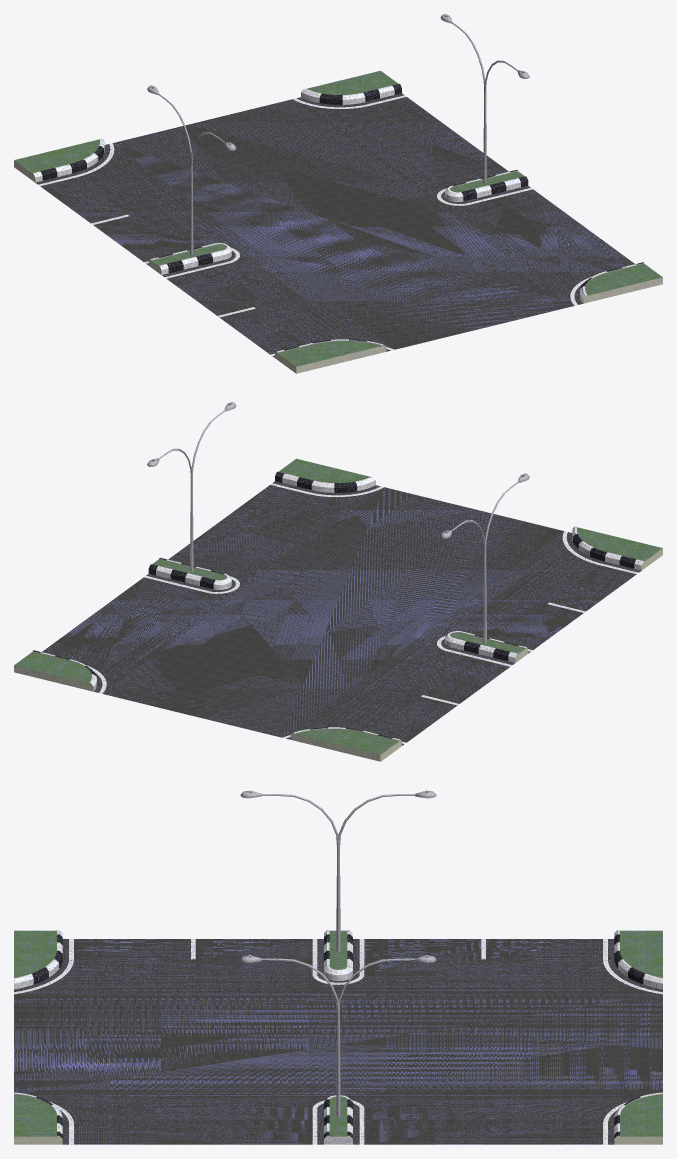
The picture shows the model from 3 angles, top to bottom: view 1: azimuth 30°, elevation 25°; view 2: azimuth 150°, elevation 25°; view 3: azimuth 270°, elevation 25°; orthographic projection. The views are drawn at different scales.
Parts seen in each view (by area): view 1: SketchUp (×7); view 2: SketchUp (×7); view 3: SketchUp (×11), Light_Street_Curved_18_ (×4).
Boxes of the visible parts, x1=… form: SketchUp (×7): x1=14, y1=70, x2=662, y2=373; SketchUp (×7): x1=14, y1=458, x2=662, y2=761; SketchUp (×11): x1=14, y1=930, x2=662, y2=1144; Light_Street_Curved_18_ (×4): x1=261, y1=794, x2=415, y2=1116.
Size of the model in its own units: 600 by 800 by 229.
8 materials, 2 textured.
